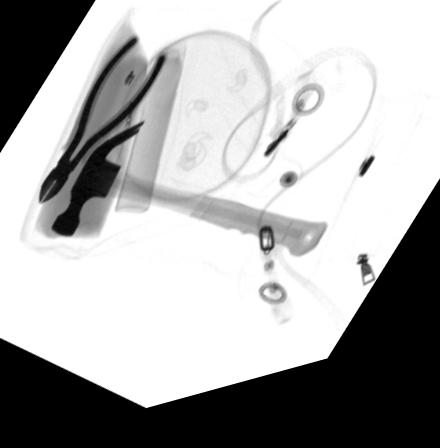Hammer: (49, 127, 328, 272)
Pliers: (38, 39, 169, 206)
